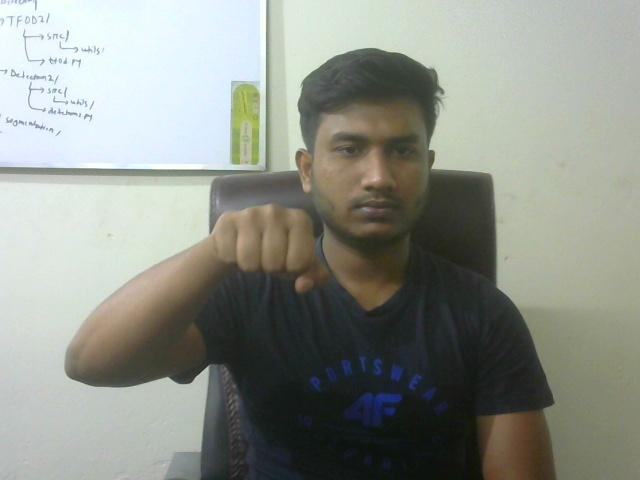Yes: (198, 197, 338, 314)
